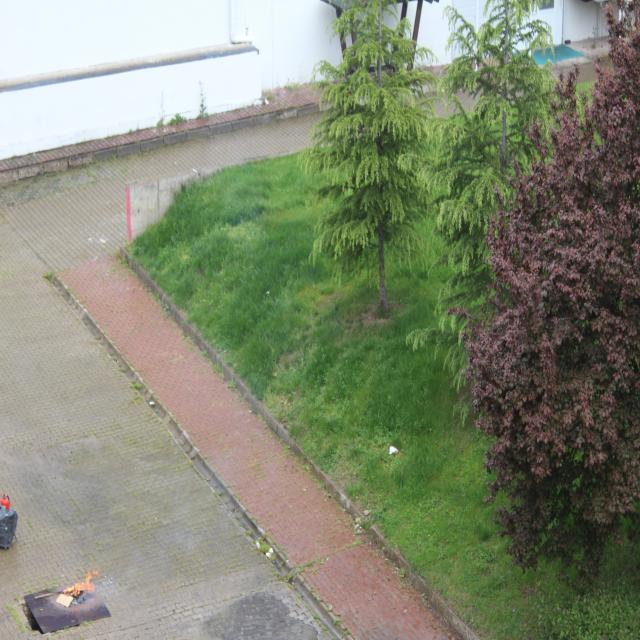fire: (38, 558, 114, 600)
